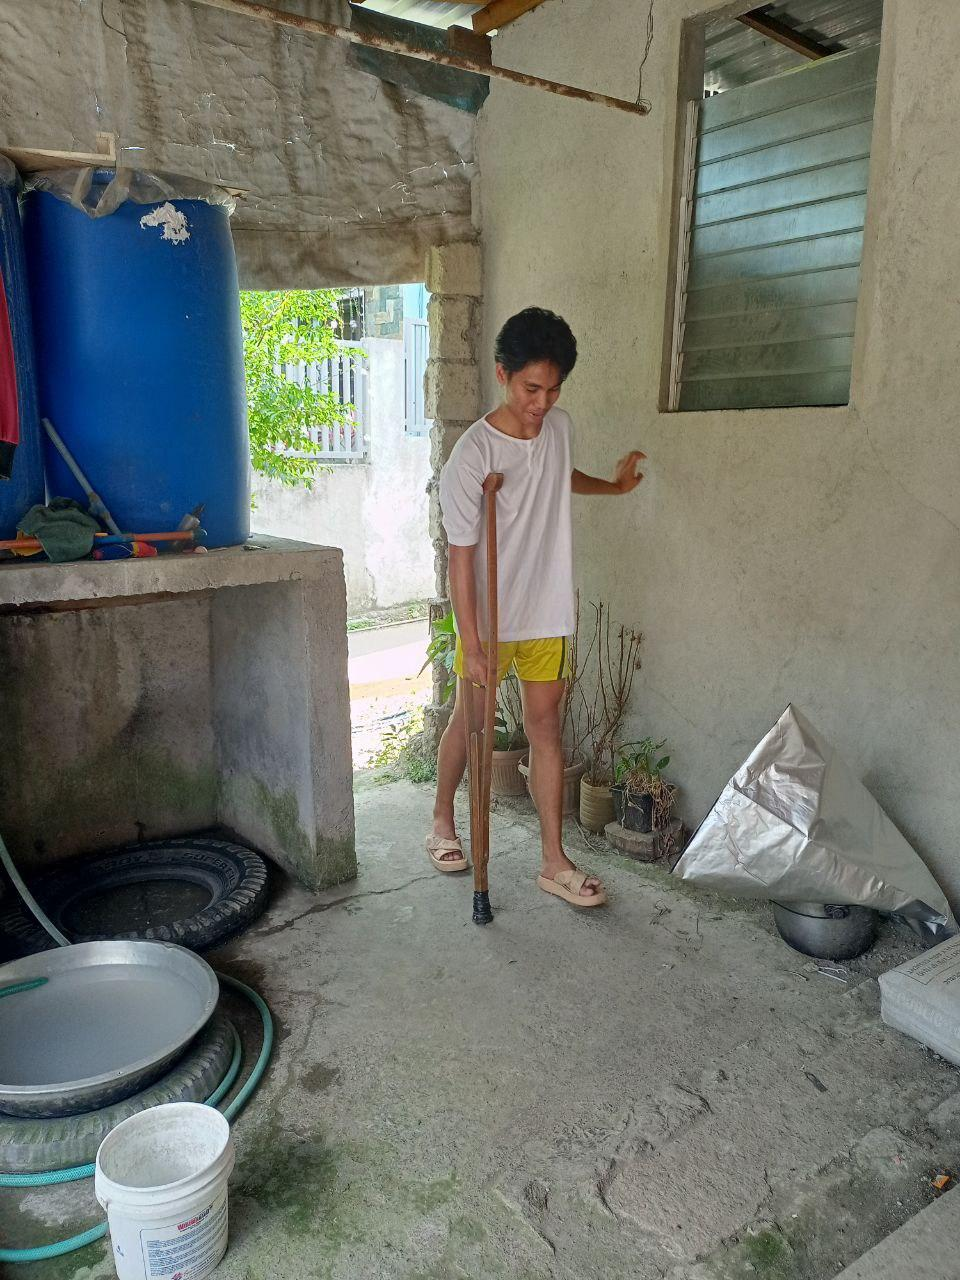crutches: (423, 300, 655, 932)
